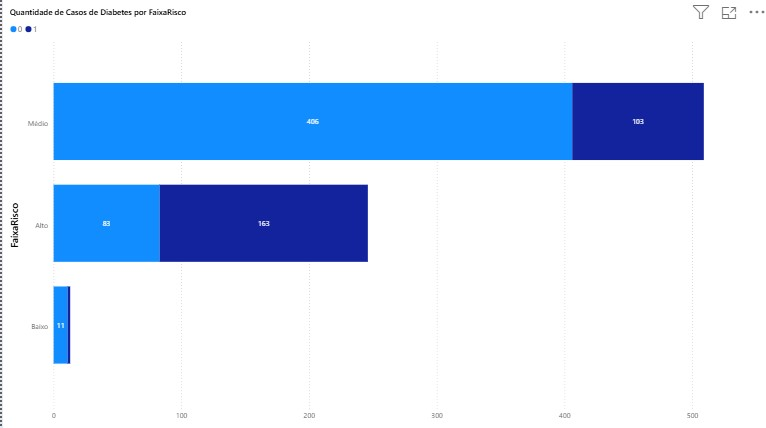

The dashboard page shown, as its layout file describes it:
{"tool":"powerbi","page":{"name":"Grafico 3","canvas":[1280,720],"ordinal":2},"visuals":[{"type":"barChart","title":"Quantidade de Casos de Diabetes por FaixaRisco","fields":{"Category":["diabetes.FaixaRisco"],"Y":["Sum(diabetes.Outcome)"],"Series":["diabetes.Outcome"]},"box":[0,0,1280,720],"z":0}]}

Visuals, with their boxes on the page's 1280x720 design canvas (x1, y1, x2, y2). These are canvas units, not pixel positions in the 766x428 screenshot, which may show the page scaled, cropped or inside an application window:
"Quantidade de Casos de Diabetes por FaixaRisco" barChart: <bbox>0, 0, 1280, 720</bbox>
